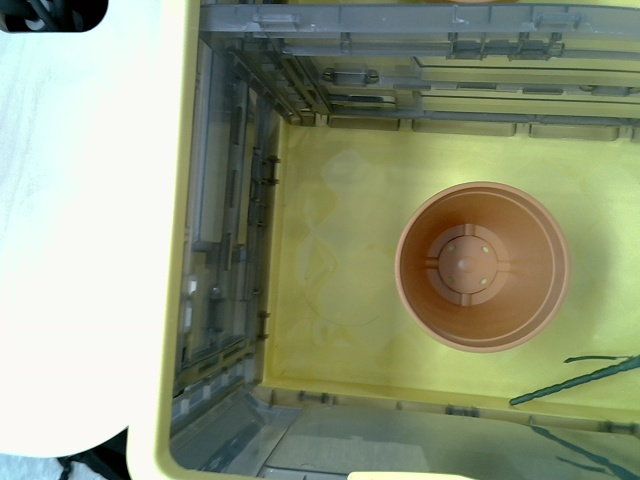화분: (394, 180, 572, 353)
